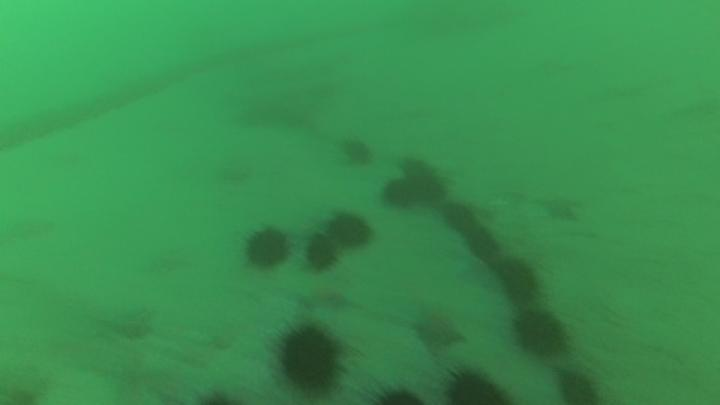echinus: (262, 320, 354, 399), (508, 302, 576, 362), (487, 251, 554, 309), (437, 362, 519, 404), (320, 205, 379, 254), (396, 153, 450, 205), (243, 221, 294, 272), (302, 228, 346, 276), (364, 377, 429, 405), (555, 369, 605, 405), (376, 175, 419, 216), (442, 200, 481, 241), (464, 223, 511, 257)
starfish: (410, 307, 472, 358), (298, 283, 358, 317), (459, 257, 499, 292)
